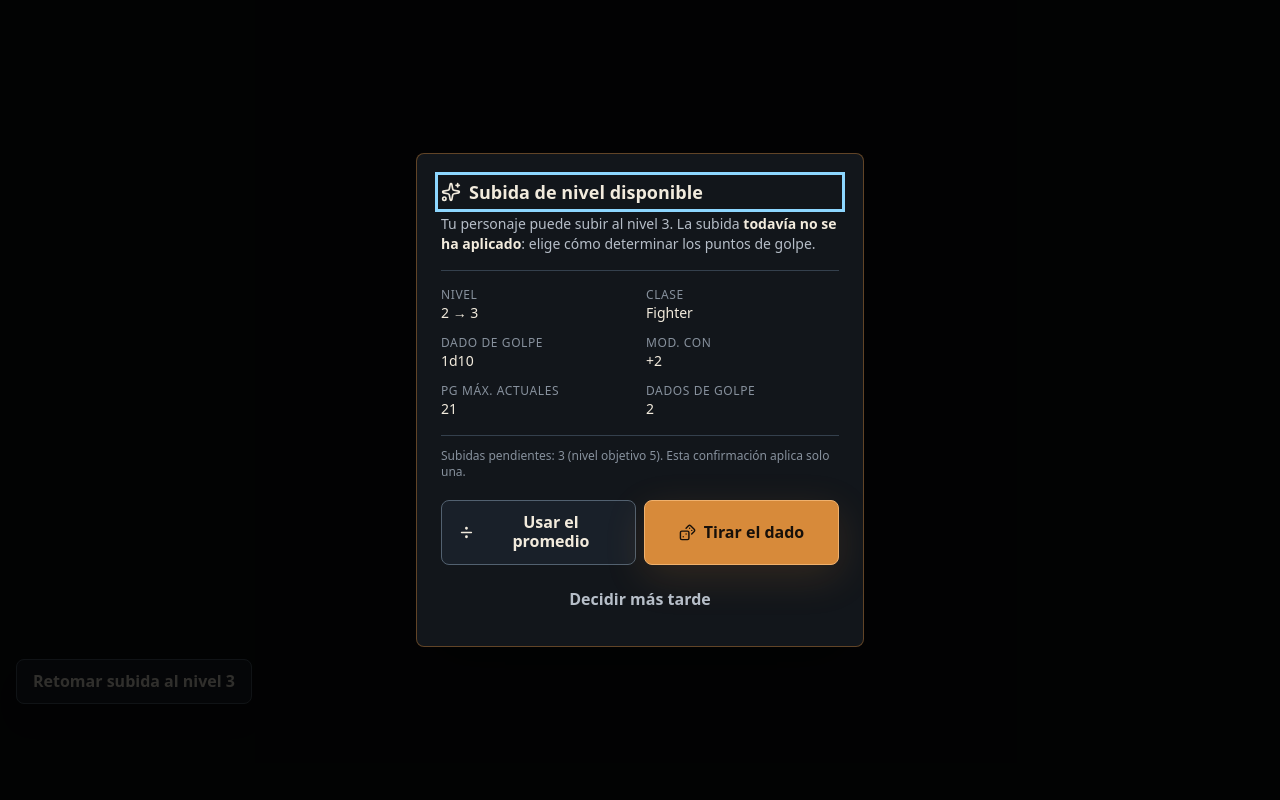
J. LevelUpConfirmation — accessible postponement › reopens the dialog when what is pending is a different level-up
Click the button "Decidir más tarde" at [640, 599], box top-left (441, 577), bottom-right (839, 622)
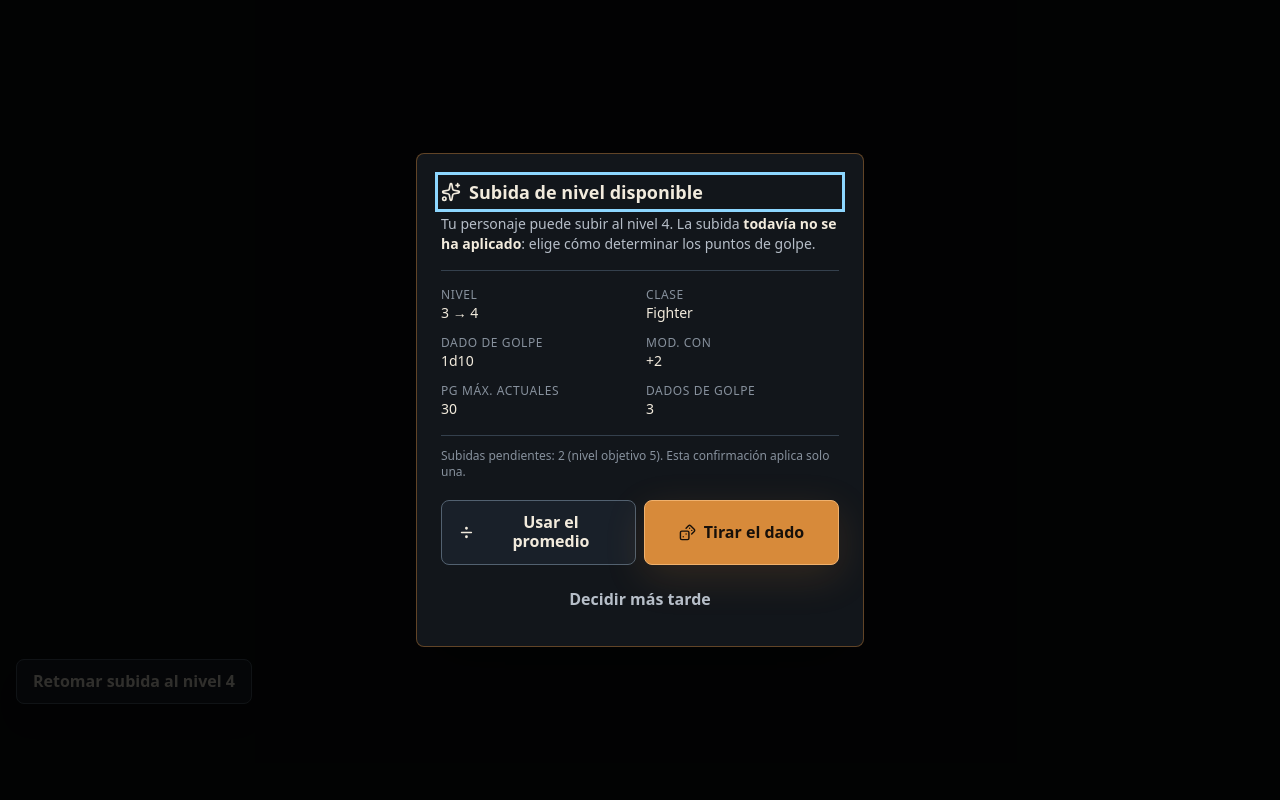
Check: the text "3 → 4" is shown, box top-left (441, 303), bottom-right (478, 322)
